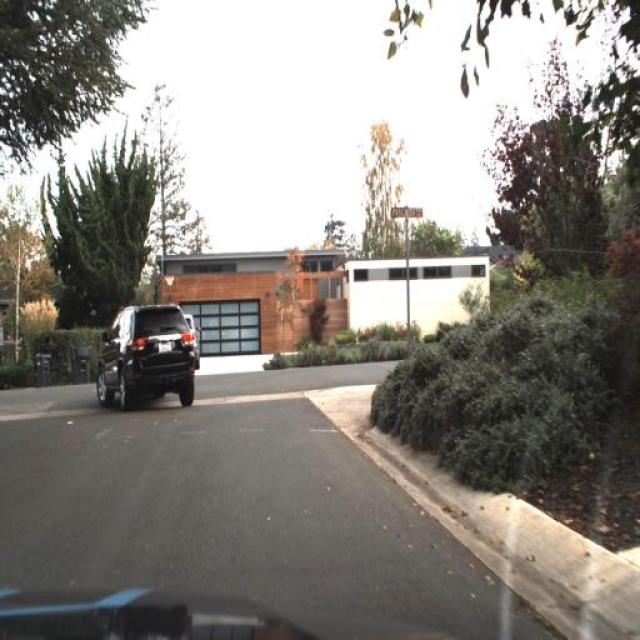car: (92, 300, 198, 415), (187, 312, 202, 370)
